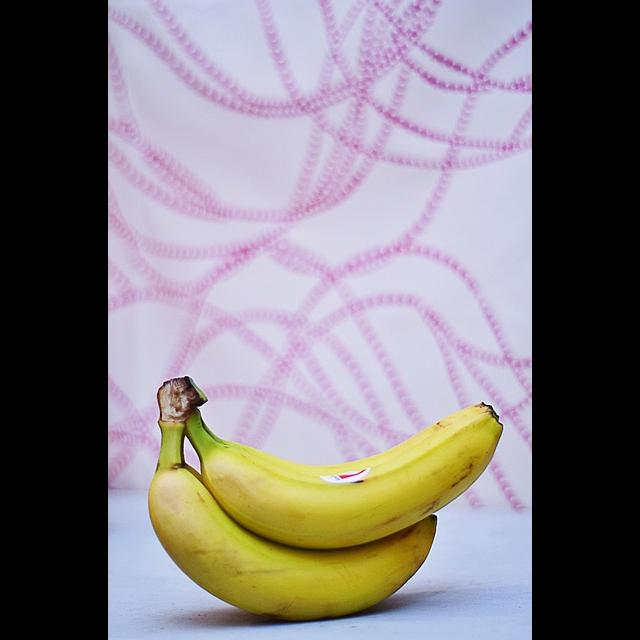apple: (138, 467, 467, 623), (194, 398, 527, 541)
